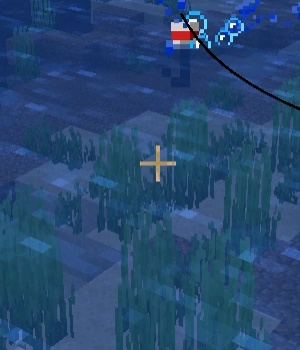up: (162, 9, 200, 89)
